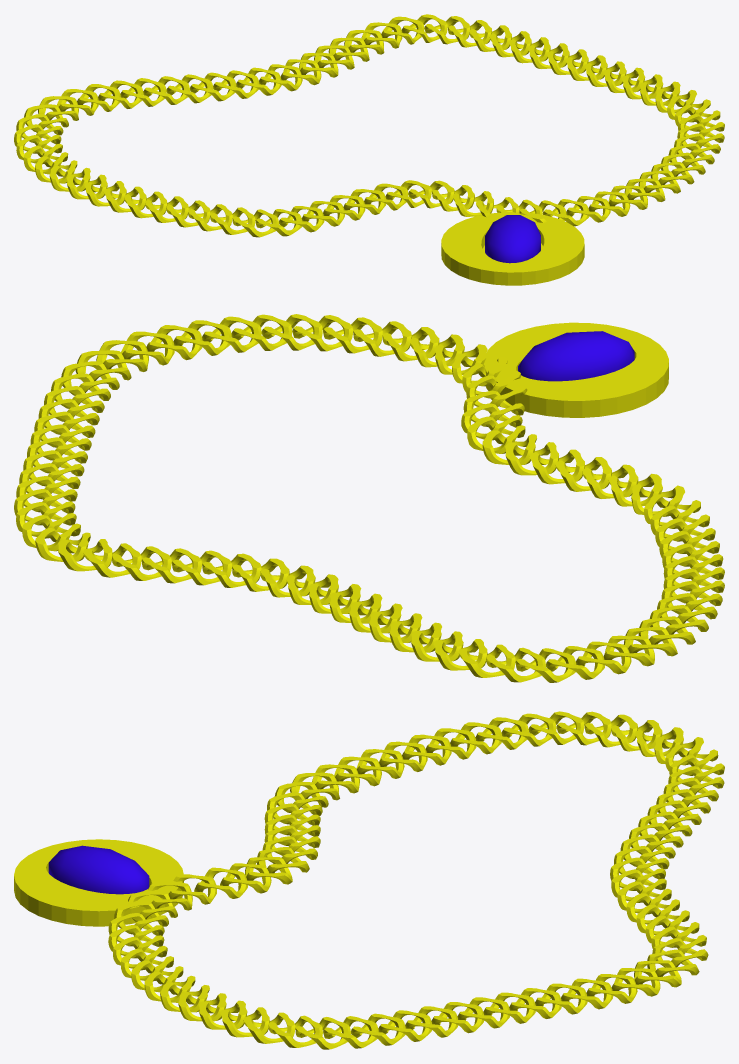
File: damageAmulet.fbx
The picture shows the model from 3 angles, top to bottom: view 1: azimuth 30°, elevation 25°; view 2: azimuth 150°, elevation 25°; view 3: azimuth 270°, elevation 25°; orthographic projection. The views are drawn at different scales.
Parts seen in each view (by area): view 1: BézierCircle, Circle, Icosphere; view 2: BézierCircle, Circle, Icosphere; view 3: BézierCircle, Circle, Icosphere.
Part boxes in pixels (x1,y1,x2,y2): BézierCircle: (14, 14, 724, 237); Circle: (441, 212, 584, 285); Icosphere: (485, 215, 540, 263); BézierCircle: (14, 314, 724, 682); Circle: (483, 322, 668, 417); Icosphere: (518, 331, 634, 381); BézierCircle: (108, 711, 724, 1049); Circle: (14, 839, 183, 926); Icosphere: (48, 845, 149, 894).
Size of the model in its own units: 1322 by 72.85 by 1197.
